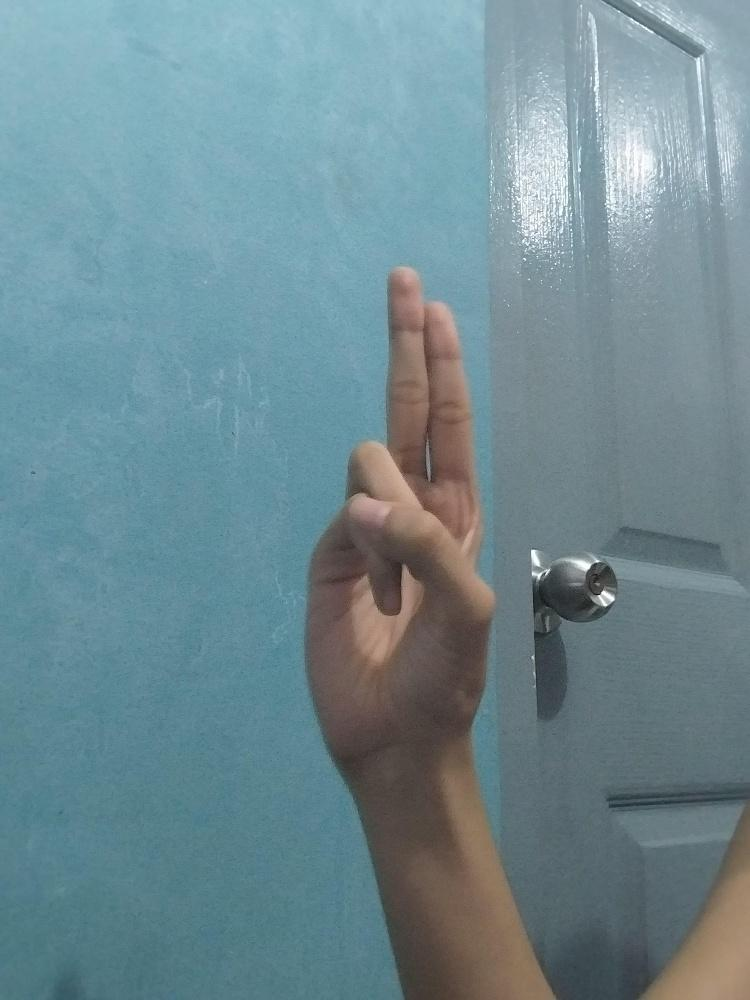u: (299, 263, 496, 761)
